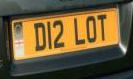2: (52, 19, 65, 49)
D: (33, 22, 47, 52)
I: (46, 20, 53, 50)
L: (73, 16, 86, 46)
O: (85, 15, 96, 43)
T: (97, 13, 108, 42)
